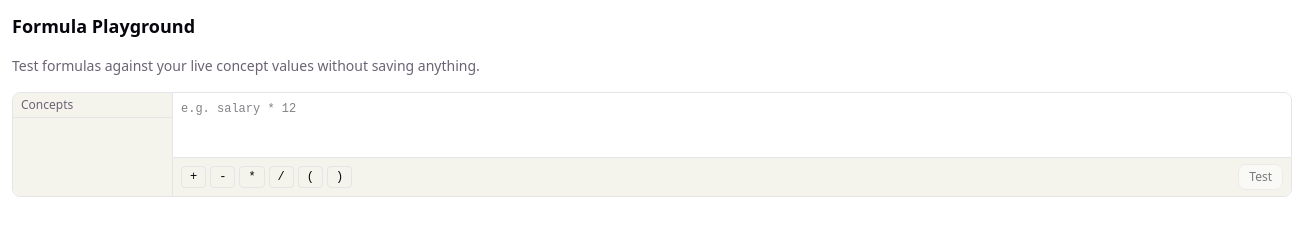
Test: FormulaPlayground › shows test result after testing
Type "6 * 7" into the text box.
click(732, 125); type("6 * 7")  # box [173,93,1291,157]
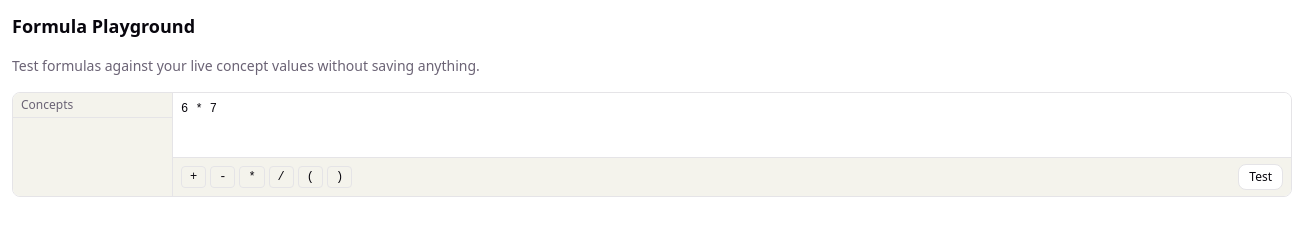
Click the button "Test".
click(1261, 177)  # box [1238,164,1283,190]
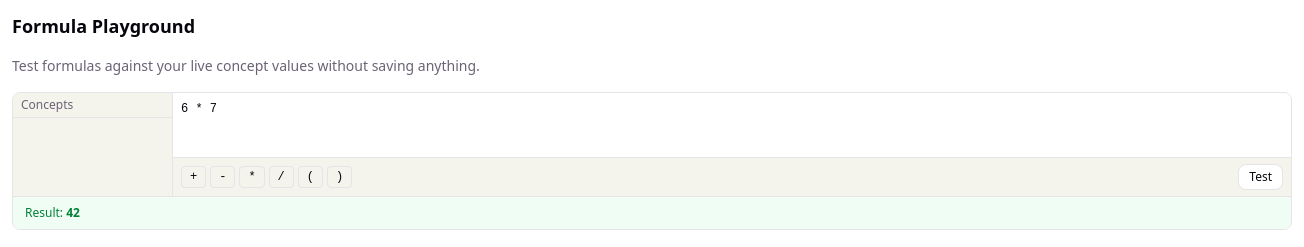
Now the text "42" is shown, box [66,204,80,221]
